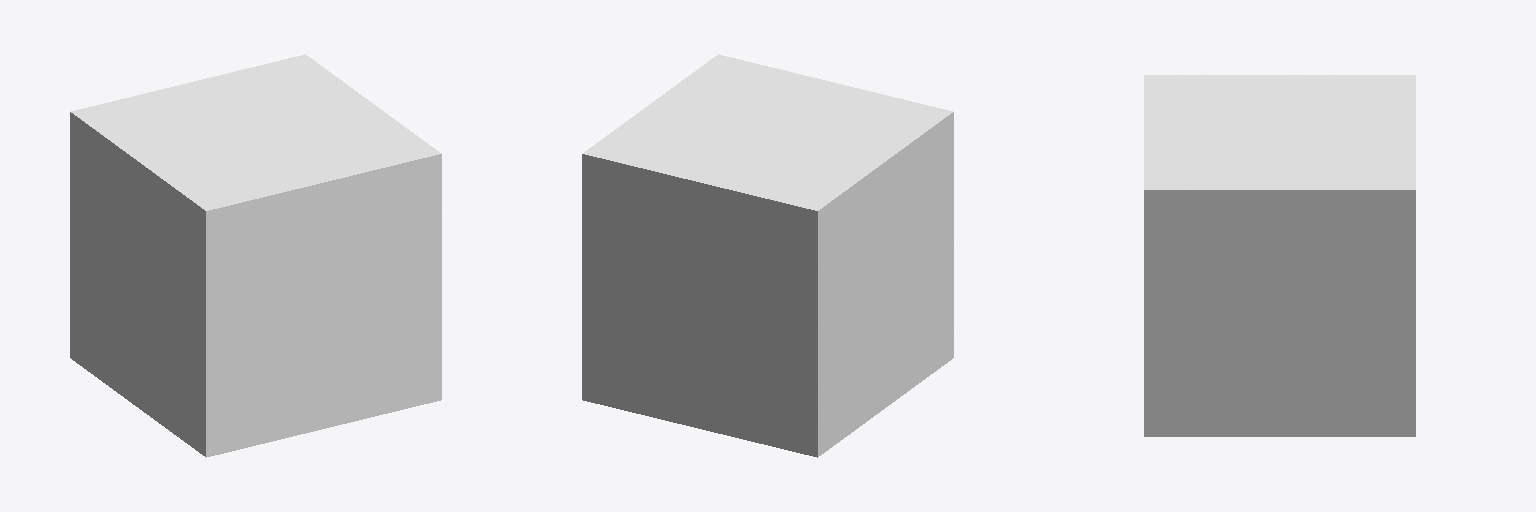
3 renders of one model, left to right at view 1: azimuth 30°, elevation 25°; view 2: azimuth 150°, elevation 25°; view 3: azimuth 270°, elevation 25°, orthographic.
Visible parts, largest first — view 1: Cube; view 2: Cube; view 3: Cube.
Boxes of the visible parts, <box> form: Cube: <box>70,54,441,457</box>; Cube: <box>582,54,953,457</box>; Cube: <box>1144,75,1415,436</box>.
Size of the model in its own units: 2 by 2 by 2.
2 materials, 1 textured.